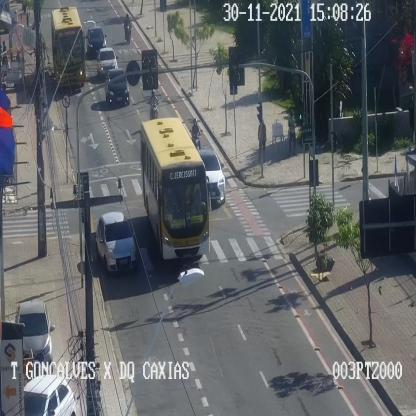bus: (140, 117, 210, 259), (51, 6, 85, 86)
car: (16, 301, 52, 373), (96, 211, 135, 272), (23, 374, 76, 416), (196, 149, 225, 203), (105, 68, 129, 104), (96, 47, 118, 76), (86, 26, 107, 54)
motorbike: (191, 118, 201, 152), (149, 88, 158, 121), (124, 13, 132, 43)
person: (288, 109, 296, 154), (258, 119, 266, 162)
